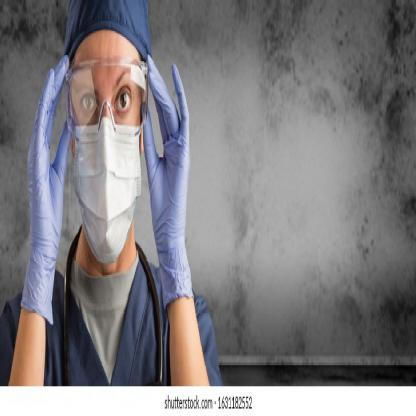with_gloves: (20, 56, 71, 326), (140, 53, 195, 298)
